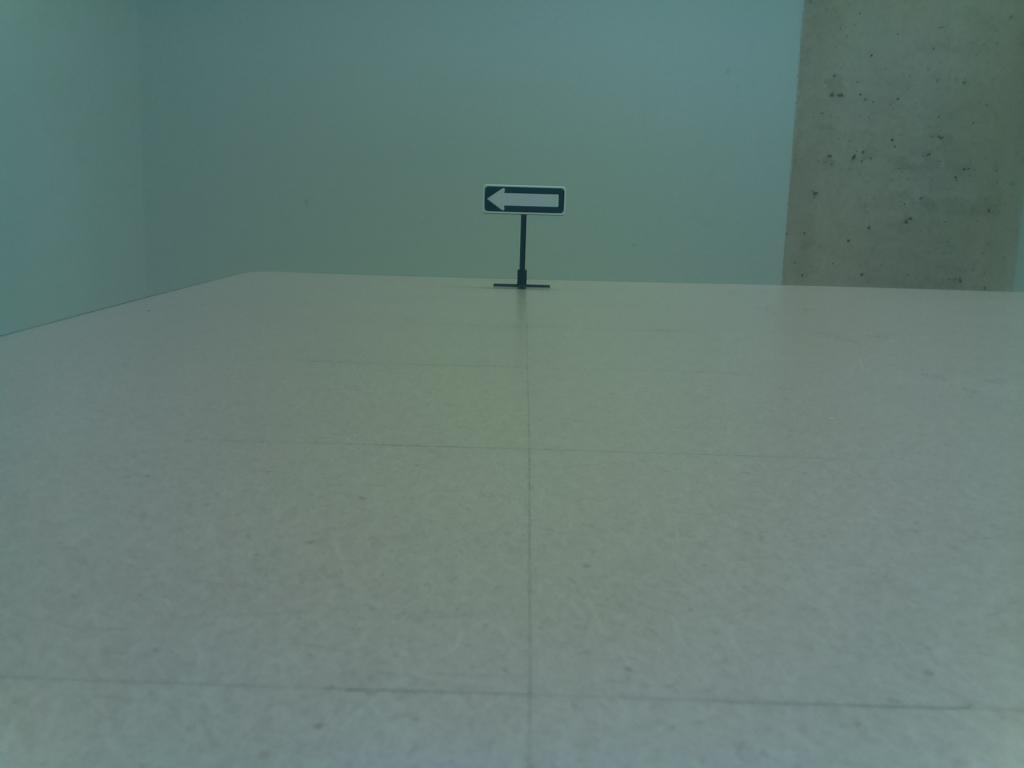sign_oneway_left: (478, 181, 574, 222)
